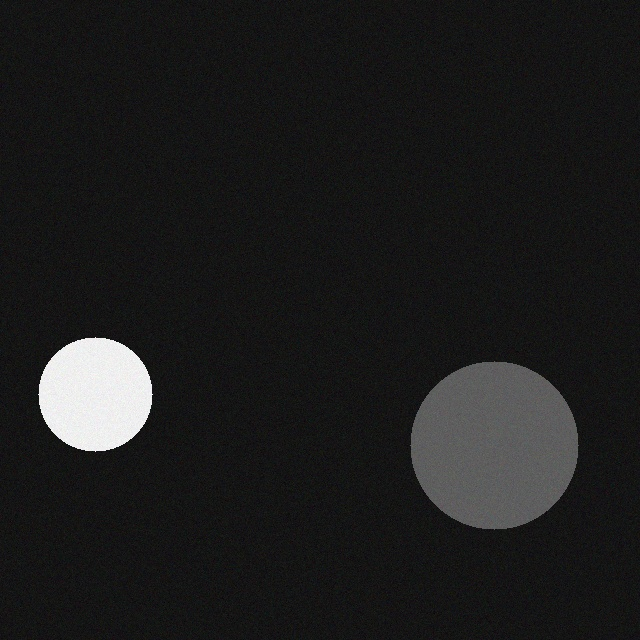circle: (400, 373, 568, 541), (28, 349, 142, 463)
